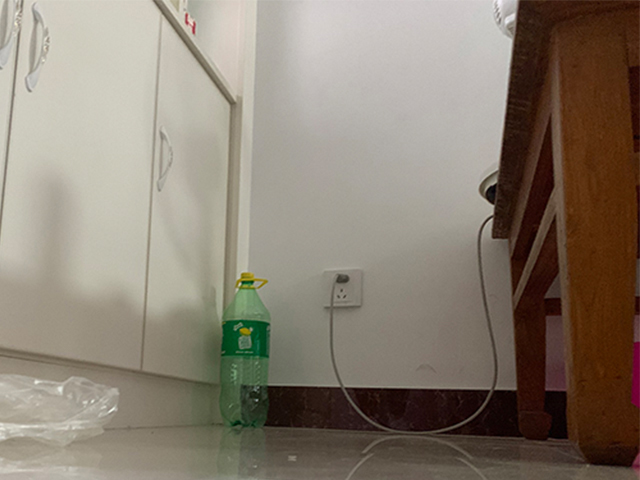cabinet: (1, 1, 240, 427)
table: (490, 1, 640, 468)
wire: (328, 215, 499, 437)
